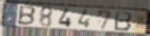4: (57, 7, 73, 29), (77, 9, 92, 30)
7: (97, 10, 112, 30)
8: (38, 6, 55, 28)
B: (16, 5, 37, 27), (113, 10, 134, 31)
